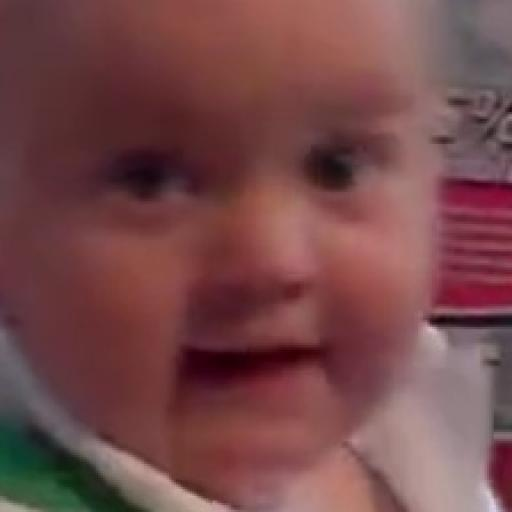Autism: (39, 0, 411, 505)
